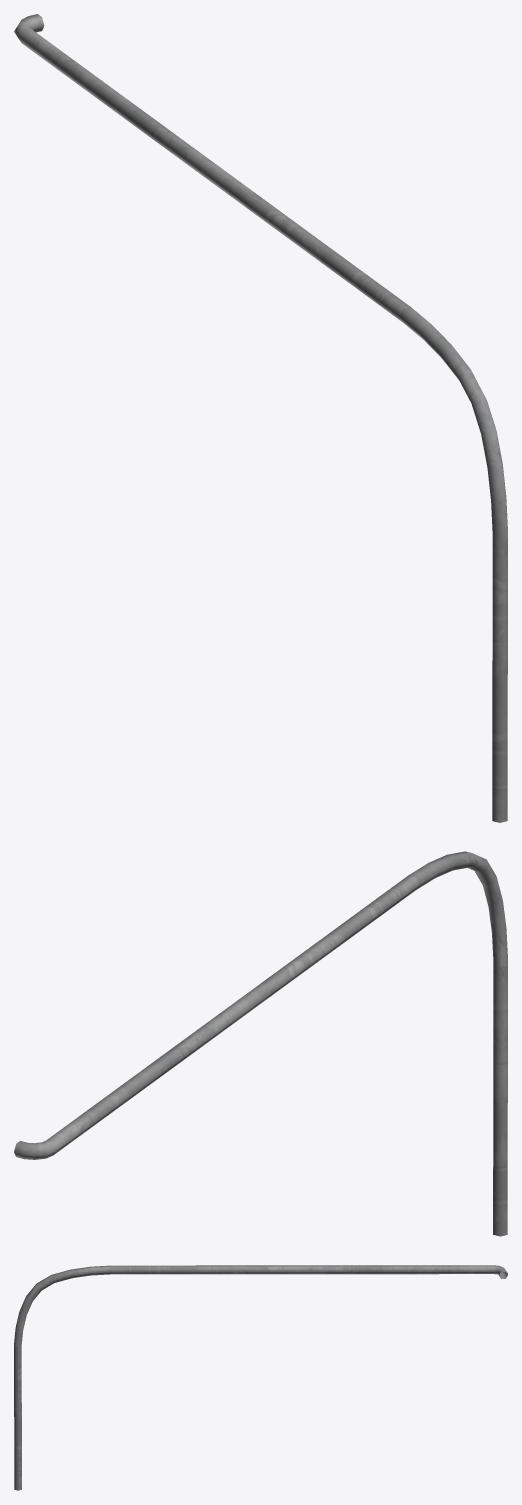
Rendered from MB_Tube_A_Angle_03.fbx.
The picture shows the model from 3 angles, top to bottom: view 1: azimuth 30°, elevation 25°; view 2: azimuth 150°, elevation 25°; view 3: azimuth 270°, elevation 25°; orthographic projection. The views are drawn at different scales.
Visible parts, largest first — view 1: MB_Tube_A_Angle_03; view 2: MB_Tube_A_Angle_03; view 3: MB_Tube_A_Angle_03.
Part boxes in pixels (x1,y1,x2,y2): MB_Tube_A_Angle_03: (14,14,507,822); MB_Tube_A_Angle_03: (14,851,507,1236); MB_Tube_A_Angle_03: (14,1265,507,1490).
Bounding box in the file's own units: 7.57 × 102 × 204.
